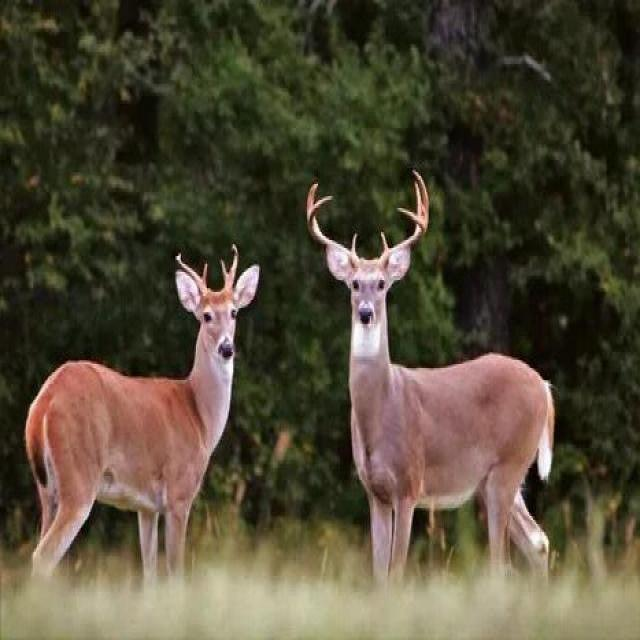deer: (281, 205, 577, 598), (18, 229, 265, 554)
